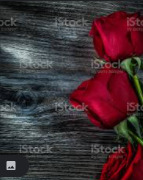RedRose: (62, 58, 141, 131), (83, 7, 143, 70)
